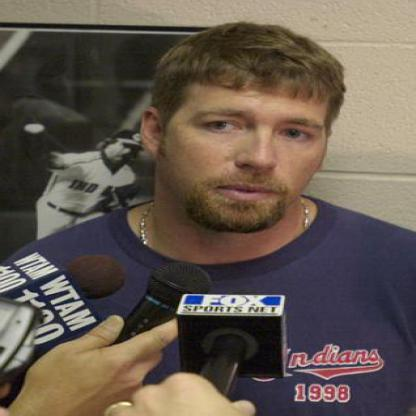face: (161, 32, 338, 237)
